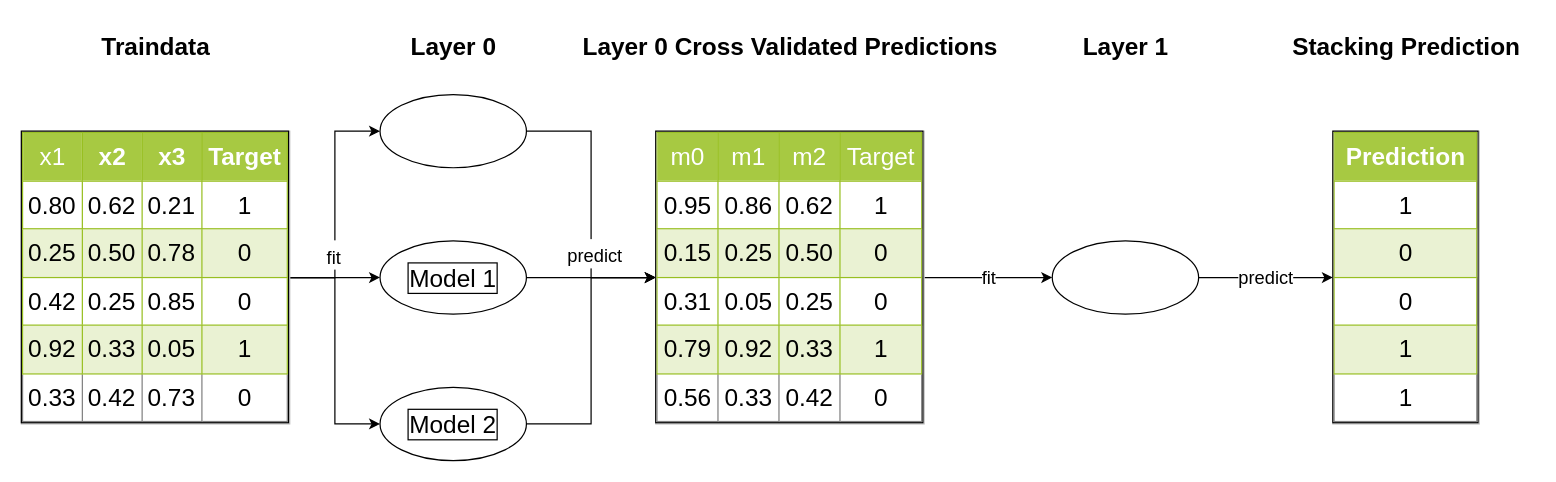
Some shapes in this 1556 by 482 pixel diagram are drawn without their labels. The shapes that lost their labels are listed below. From the top down, each one's box as (x1, y1, x2, y2) in pixels, then its label:
(379, 93, 526, 168): Model 0
(1051, 240, 1199, 314): Model 3
